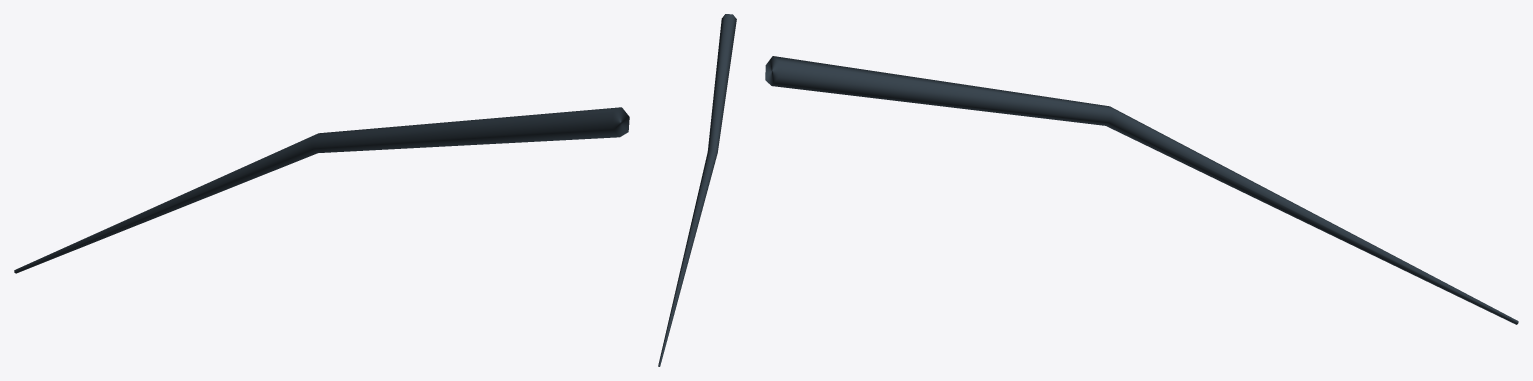
The model's file is L_Wing_Finger_3.obj.
3 renders of one model, left to right at view 1: azimuth 30°, elevation 25°; view 2: azimuth 150°, elevation 25°; view 3: azimuth 270°, elevation 25°, orthographic. The views are drawn at different scales.
Parts seen in each view (by area): view 1: L_Wing_Finger_3; view 2: L_Wing_Finger_3; view 3: L_Wing_Finger_3.
Boxes of the visible parts, box(x1,y1,x2,y2) form: L_Wing_Finger_3: box(14, 107, 629, 273); L_Wing_Finger_3: box(658, 14, 736, 366); L_Wing_Finger_3: box(765, 56, 1518, 324).
Bounding box in the file's own units: 2.05 × 3 × 5.42.
